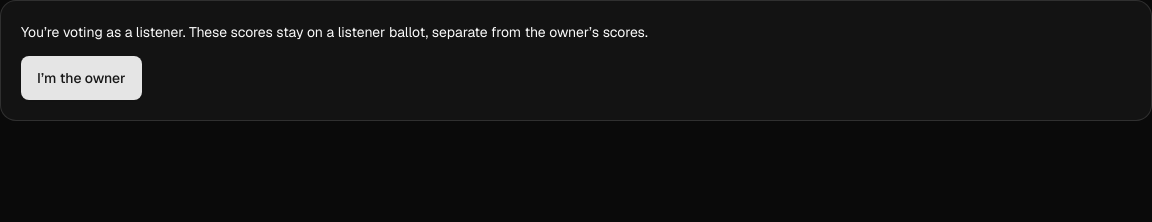
Scenario: ListenerOwnerClaim › opens the owner password on one tap
Click the button "I’m the owner".
click(81, 78)  # box 21,56 -> 142,100
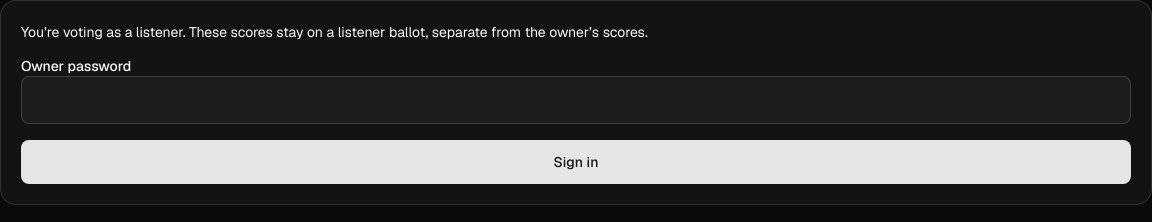
Expected: the password field labelled "Owner password" is shown, 21,76 -> 1131,124
